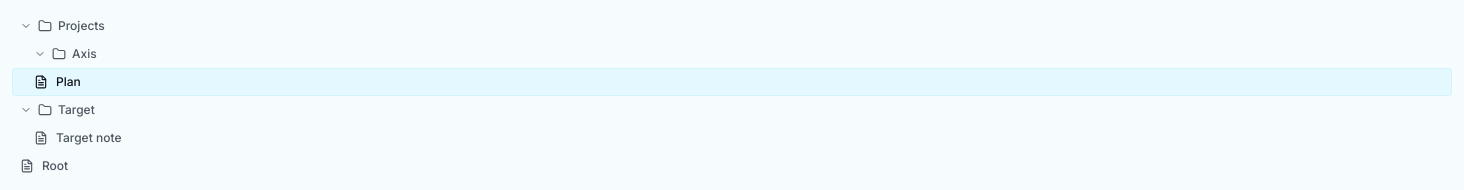
Test: NotesExplorerTree › collapses a physical folder without changing the selected note
Click the button with aria-label "Collapse Projects": [81, 26] box [12,12,1452,40]
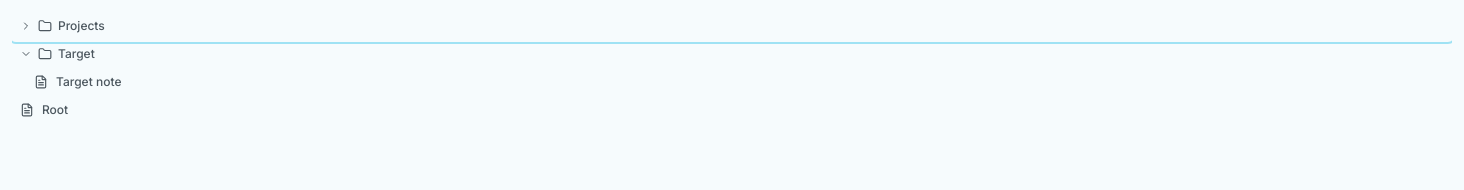
Expected: the button "Plan" is gone
